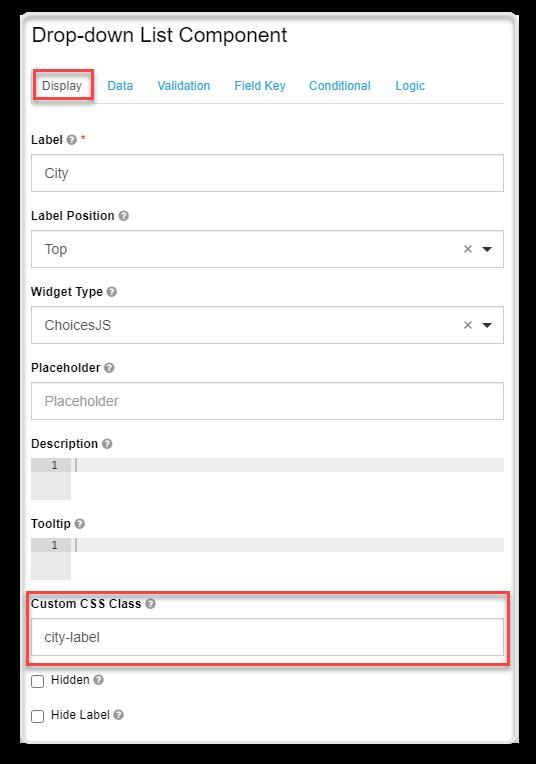button: (34, 71, 94, 101)
checkbox: (31, 709, 45, 725), (31, 675, 46, 689)
dropdown: (33, 307, 506, 345), (33, 232, 503, 268)
input: (34, 154, 505, 193), (29, 619, 508, 657), (30, 384, 506, 421)
label: (26, 25, 293, 49), (32, 594, 164, 617), (31, 356, 118, 380), (26, 208, 132, 226), (30, 437, 116, 456), (51, 706, 128, 727), (28, 284, 119, 301), (27, 514, 92, 536), (307, 76, 375, 96), (151, 76, 216, 96), (29, 131, 92, 151), (230, 76, 289, 96), (50, 674, 109, 692), (392, 76, 431, 97), (106, 77, 139, 96)
